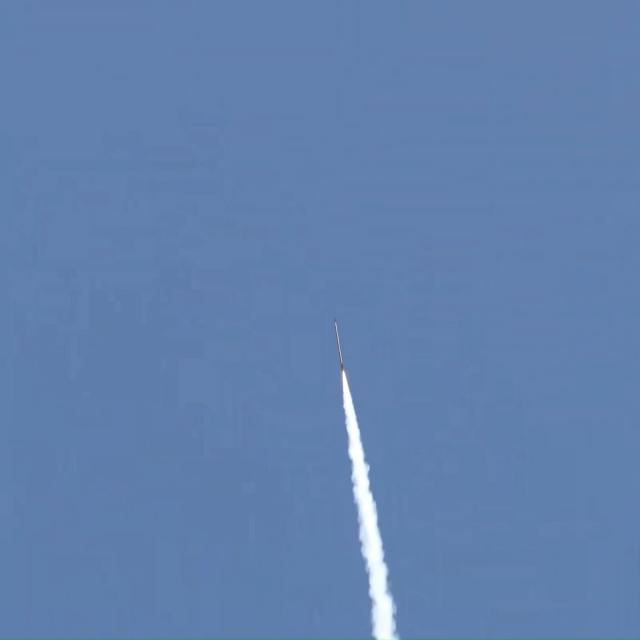Rocket: (334, 319, 345, 374)
